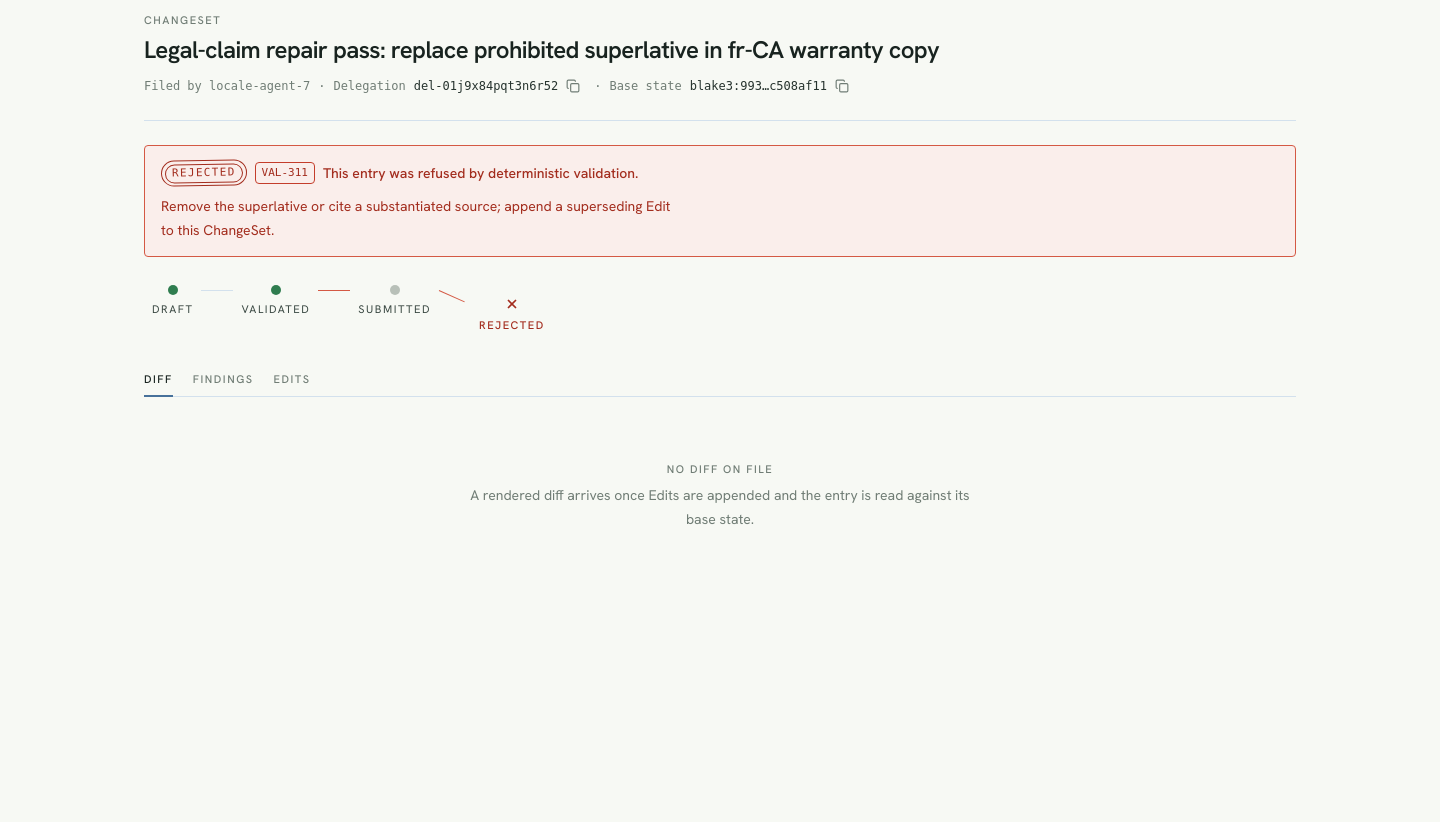
Test: ChangesetDetailPage › surfaces the refusal banner, findings, and supersession note for a rejected entry
Expected: the message shows "VAL-311", [262,166,308,179]
Expected: the message shows "append a superseding edit", [161,197,670,239]
Press the mouse on the tab "Findings": (223, 381) [193,365,254,397]
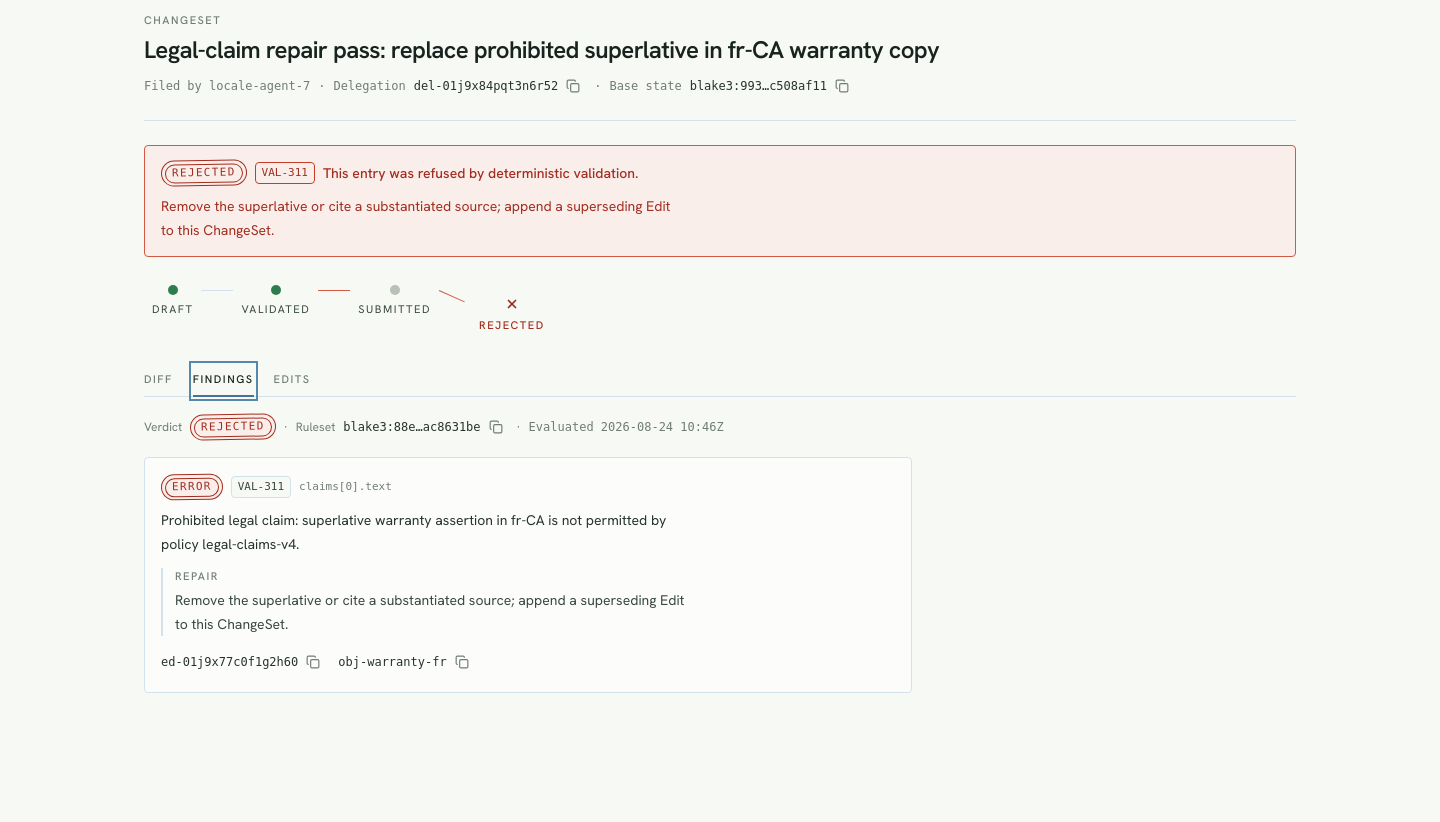
Expected: the text "Prohibited legal claim" is shown, [161,511,666,553]
Press the mouse on the tab "Edits": (292, 381) [274,365,310,397]
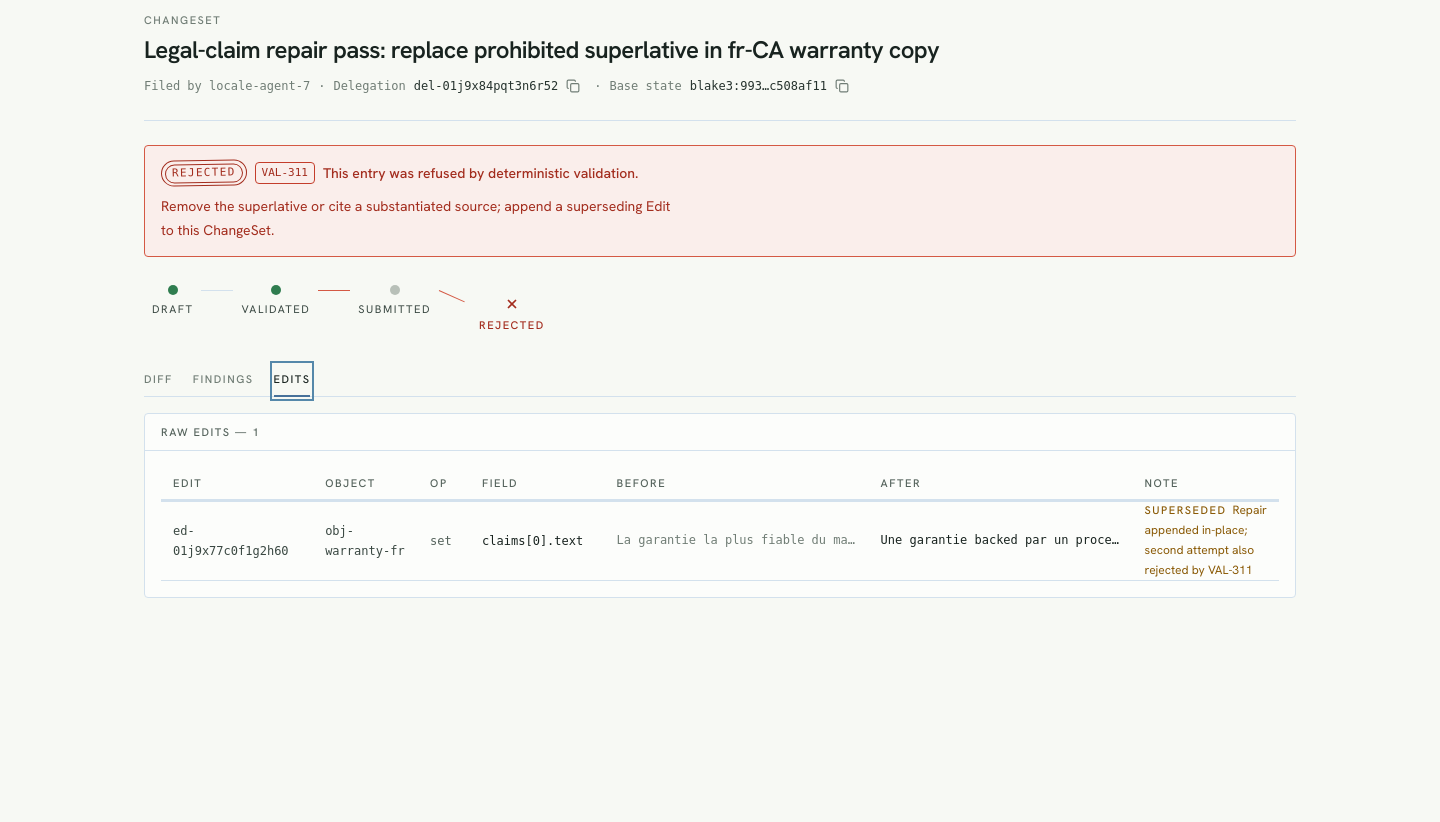
Expected: the text "second attempt also rejected" is shown, [1145,502,1267,578]
